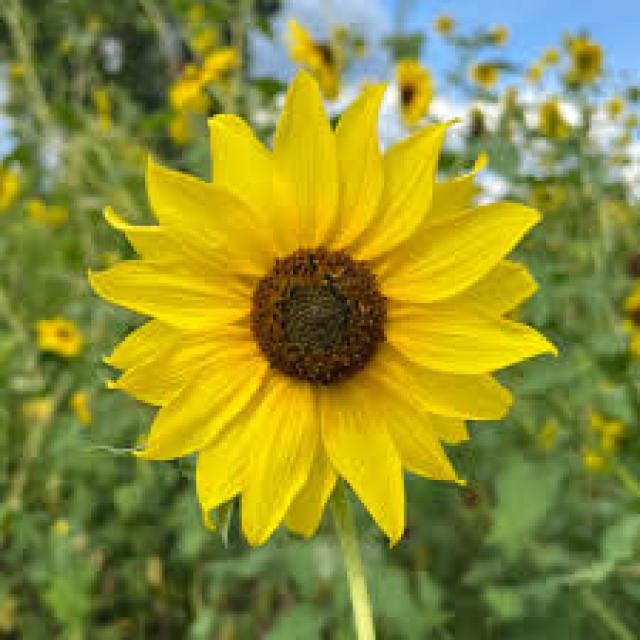sunflower: (73, 62, 565, 560), (290, 22, 368, 107), (387, 55, 441, 124), (562, 34, 608, 98), (37, 314, 87, 372), (199, 34, 253, 87), (166, 57, 212, 116), (450, 104, 494, 156), (464, 46, 507, 94), (618, 275, 640, 352)
